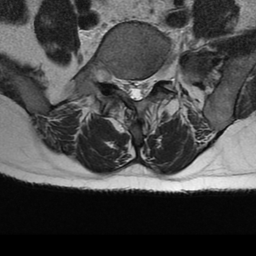CCS_normal: (130, 69, 140, 107)
LFS_normal: (150, 64, 161, 92)
LLS_normal: (139, 69, 150, 101)
RFS_normal: (112, 65, 120, 94)
RLS_normal: (120, 69, 130, 101)
